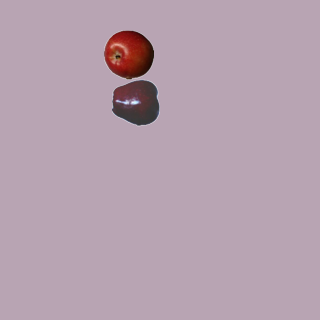Apple Braeburn: (103, 29, 153, 79)
Apple Red Delicious: (111, 77, 161, 127)
